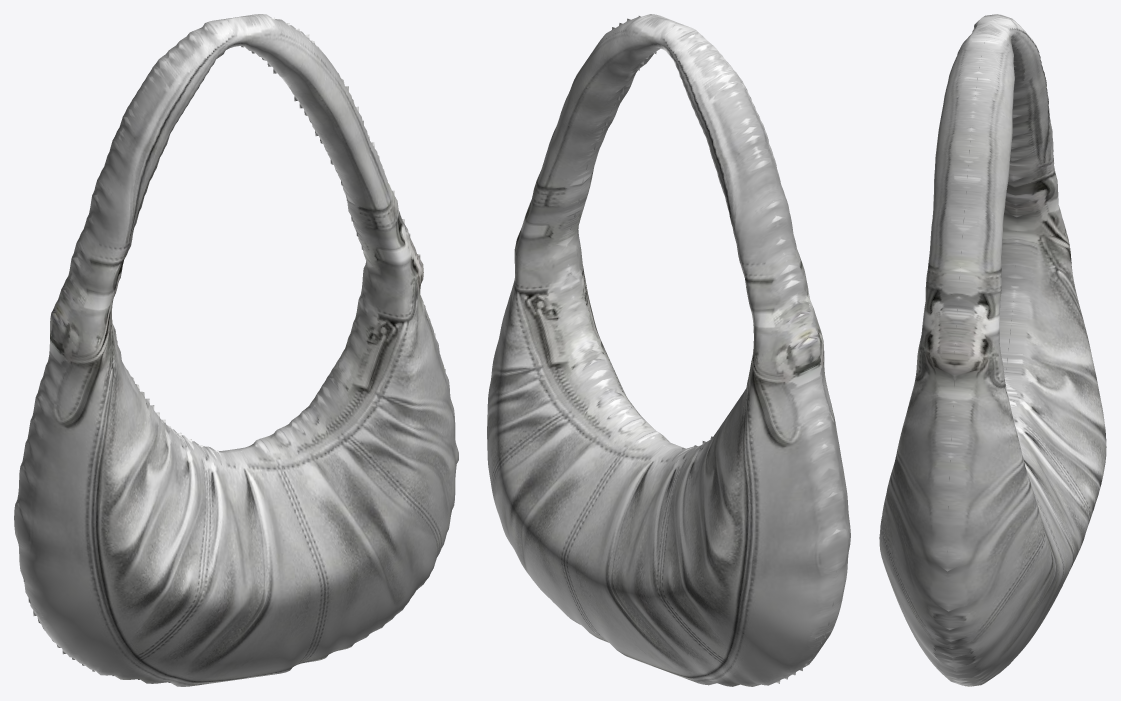
Rendered from prod-ae-silver-metallic-shoulder-bag.glb.
The picture shows the model from 3 angles, left to right: view 1: azimuth 30°, elevation 25°; view 2: azimuth 150°, elevation 25°; view 3: azimuth 270°, elevation 25°; orthographic projection. The views are drawn at different scales.
Visible parts, largest first — view 1: prod-ae-silver-metallic-shoulder-bag; view 2: prod-ae-silver-metallic-shoulder-bag; view 3: prod-ae-silver-metallic-shoulder-bag.
Boxes of the visible parts, x1=… form: prod-ae-silver-metallic-shoulder-bag: x1=14, y1=14, x2=458, y2=686; prod-ae-silver-metallic-shoulder-bag: x1=487, y1=14, x2=850, y2=686; prod-ae-silver-metallic-shoulder-bag: x1=879, y1=14, x2=1106, y2=686.
Size of the model in its own units: 0.2059 by 0.3285 by 0.1066.
1 material, 1 textured.
